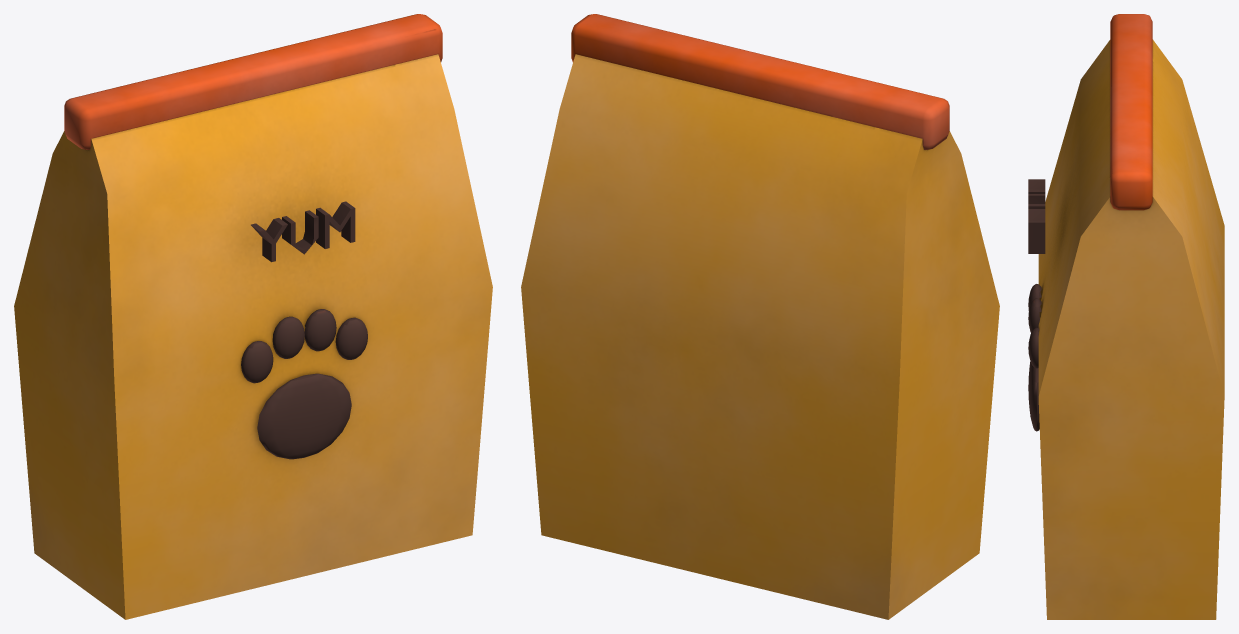
The model's file is dog_treats.fbx.
3 views of the same model, side by side, from view 1: azimuth 30°, elevation 25°; view 2: azimuth 150°, elevation 25°; view 3: azimuth 270°, elevation 25° (orthographic). The views are drawn at different scales.
Parts seen in each view (by area): view 1: Body; view 2: Body; view 3: Body.
Boxes of the visible parts, box(x1,y1,x2,y2) form: Body: box(14, 14, 492, 619); Body: box(521, 14, 999, 619); Body: box(1028, 14, 1224, 619).
Size of the model in its own units: 0.48 by 0.585 by 0.232.
1 material, 1 textured.
